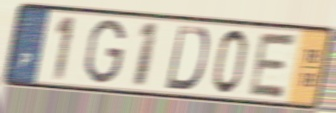0: (211, 27, 250, 96)
1: (134, 20, 159, 91), (53, 14, 78, 83)
D: (163, 24, 211, 93)
E: (245, 30, 300, 101)
G: (83, 18, 128, 86)
